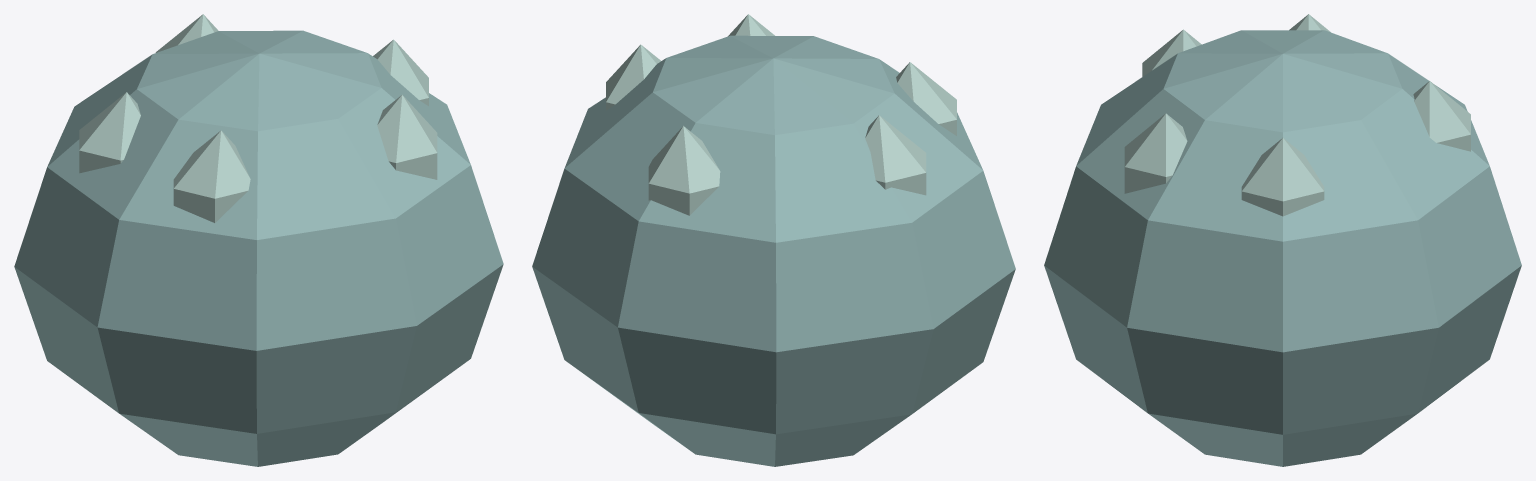
File: marine-meteor-0.glb
The picture shows the model from 3 angles, left to right: view 1: azimuth 30°, elevation 25°; view 2: azimuth 150°, elevation 25°; view 3: azimuth 270°, elevation 25°; orthographic projection.
Visible parts, largest first — view 1: marine-meteor-0; view 2: marine-meteor-0; view 3: marine-meteor-0.
Part boxes in pixels (bbox=[...]): marine-meteor-0: bbox=[14, 14, 503, 466]; marine-meteor-0: bbox=[532, 14, 1015, 466]; marine-meteor-0: bbox=[1044, 14, 1521, 466].
Bounding box in the file's own units: 2.13 × 1.88 × 2.11.
